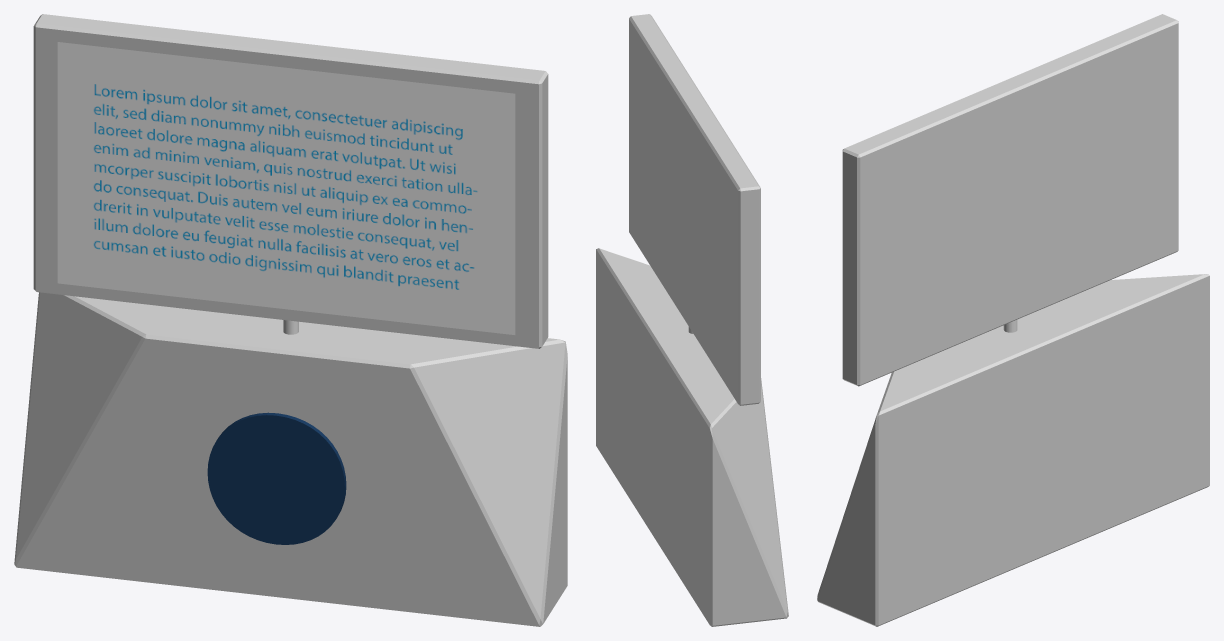
The model's file is screen_1.fbx.
3 renders of one model, left to right at view 1: azimuth 30°, elevation 25°; view 2: azimuth 150°, elevation 25°; view 3: azimuth 270°, elevation 25°, orthographic. The views are drawn at different scales.
Visible parts, largest first — view 1: screen_1, Cube.002, Curve.003; view 2: Cube.002, screen_1; view 3: Cube.002, screen_1.
Boxes of the visible parts, bbox=[...] form: screen_1: bbox=[33, 14, 548, 348]; Cube.002: bbox=[14, 292, 567, 626]; Curve.003: bbox=[207, 412, 346, 544]; Cube.002: bbox=[596, 248, 788, 626]; screen_1: bbox=[629, 14, 760, 405]; Cube.002: bbox=[817, 274, 1209, 626]; screen_1: bbox=[842, 14, 1178, 386].
Bounding box in the file's own units: 1.66 × 2.14 × 1.66.
Materials: 4 (1 with a texture image).
